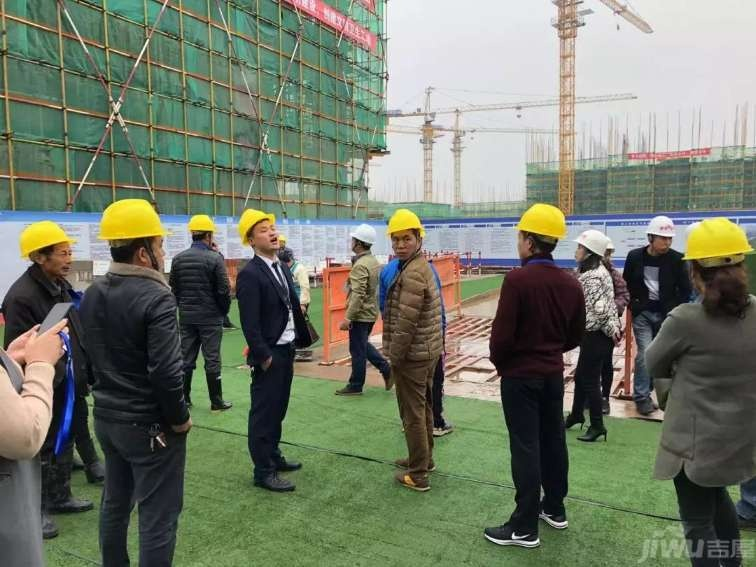white: (644, 212, 675, 254), (573, 229, 607, 267), (346, 222, 377, 253)
yellow: (682, 210, 748, 303), (98, 195, 167, 277), (512, 201, 569, 262), (18, 217, 72, 278), (234, 206, 280, 253), (384, 208, 423, 259), (185, 214, 215, 247)
